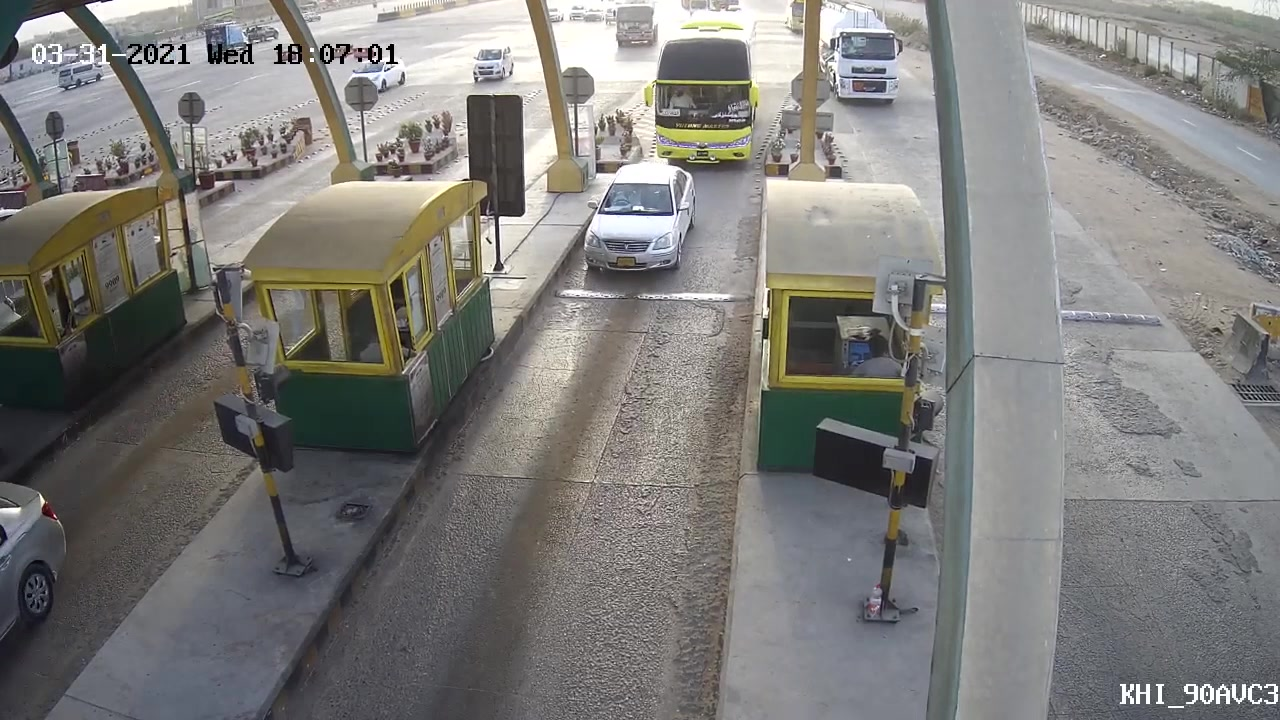F1: (573, 164, 700, 284)
F4: (635, 29, 766, 166)
